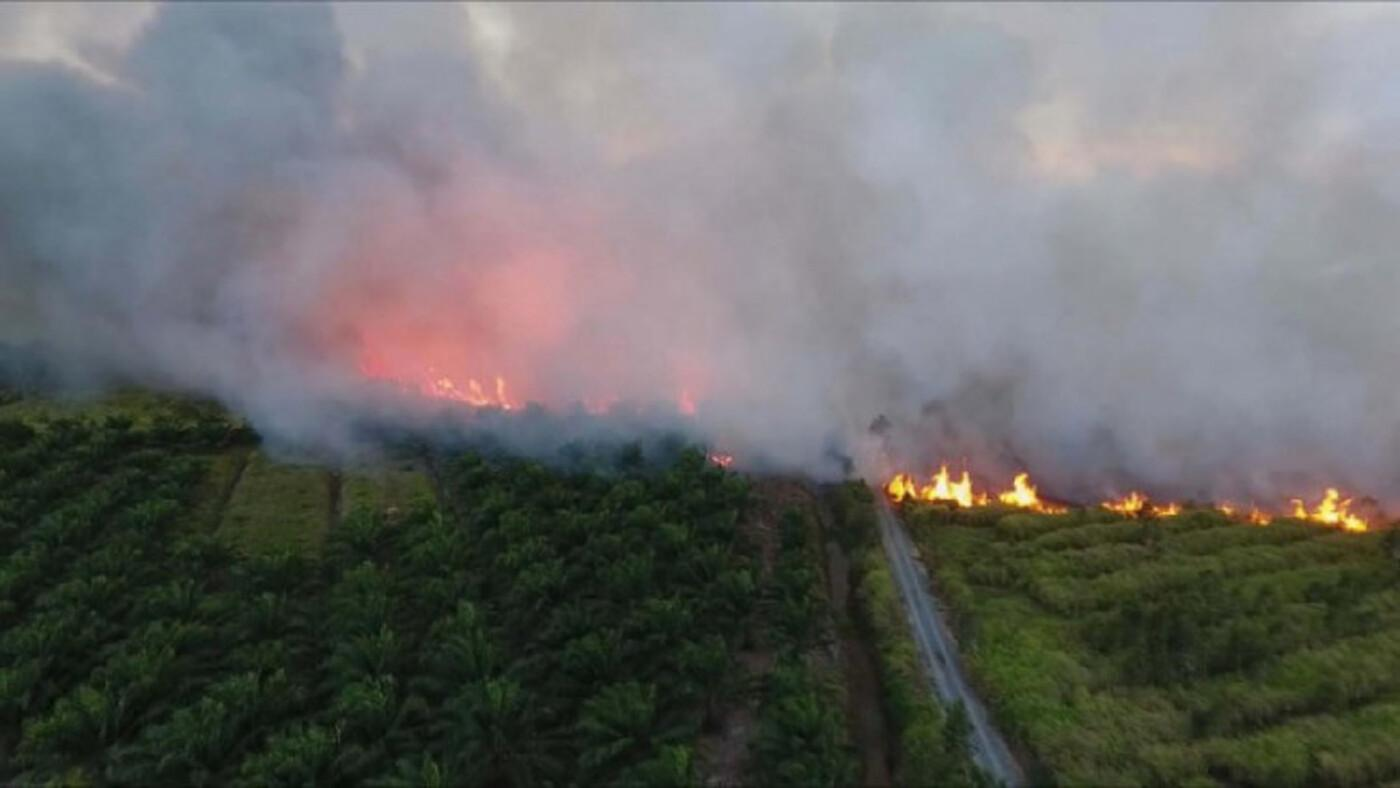fire: (811, 395, 1400, 584), (328, 286, 588, 454)
